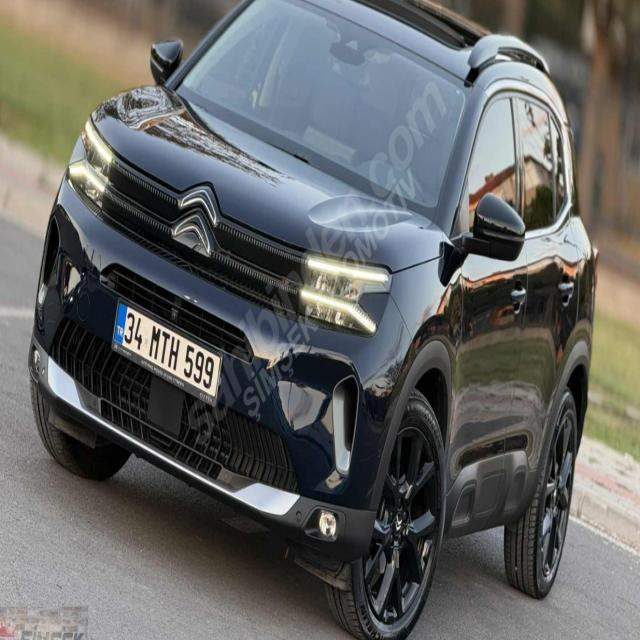citroen: (172, 175, 220, 262)
